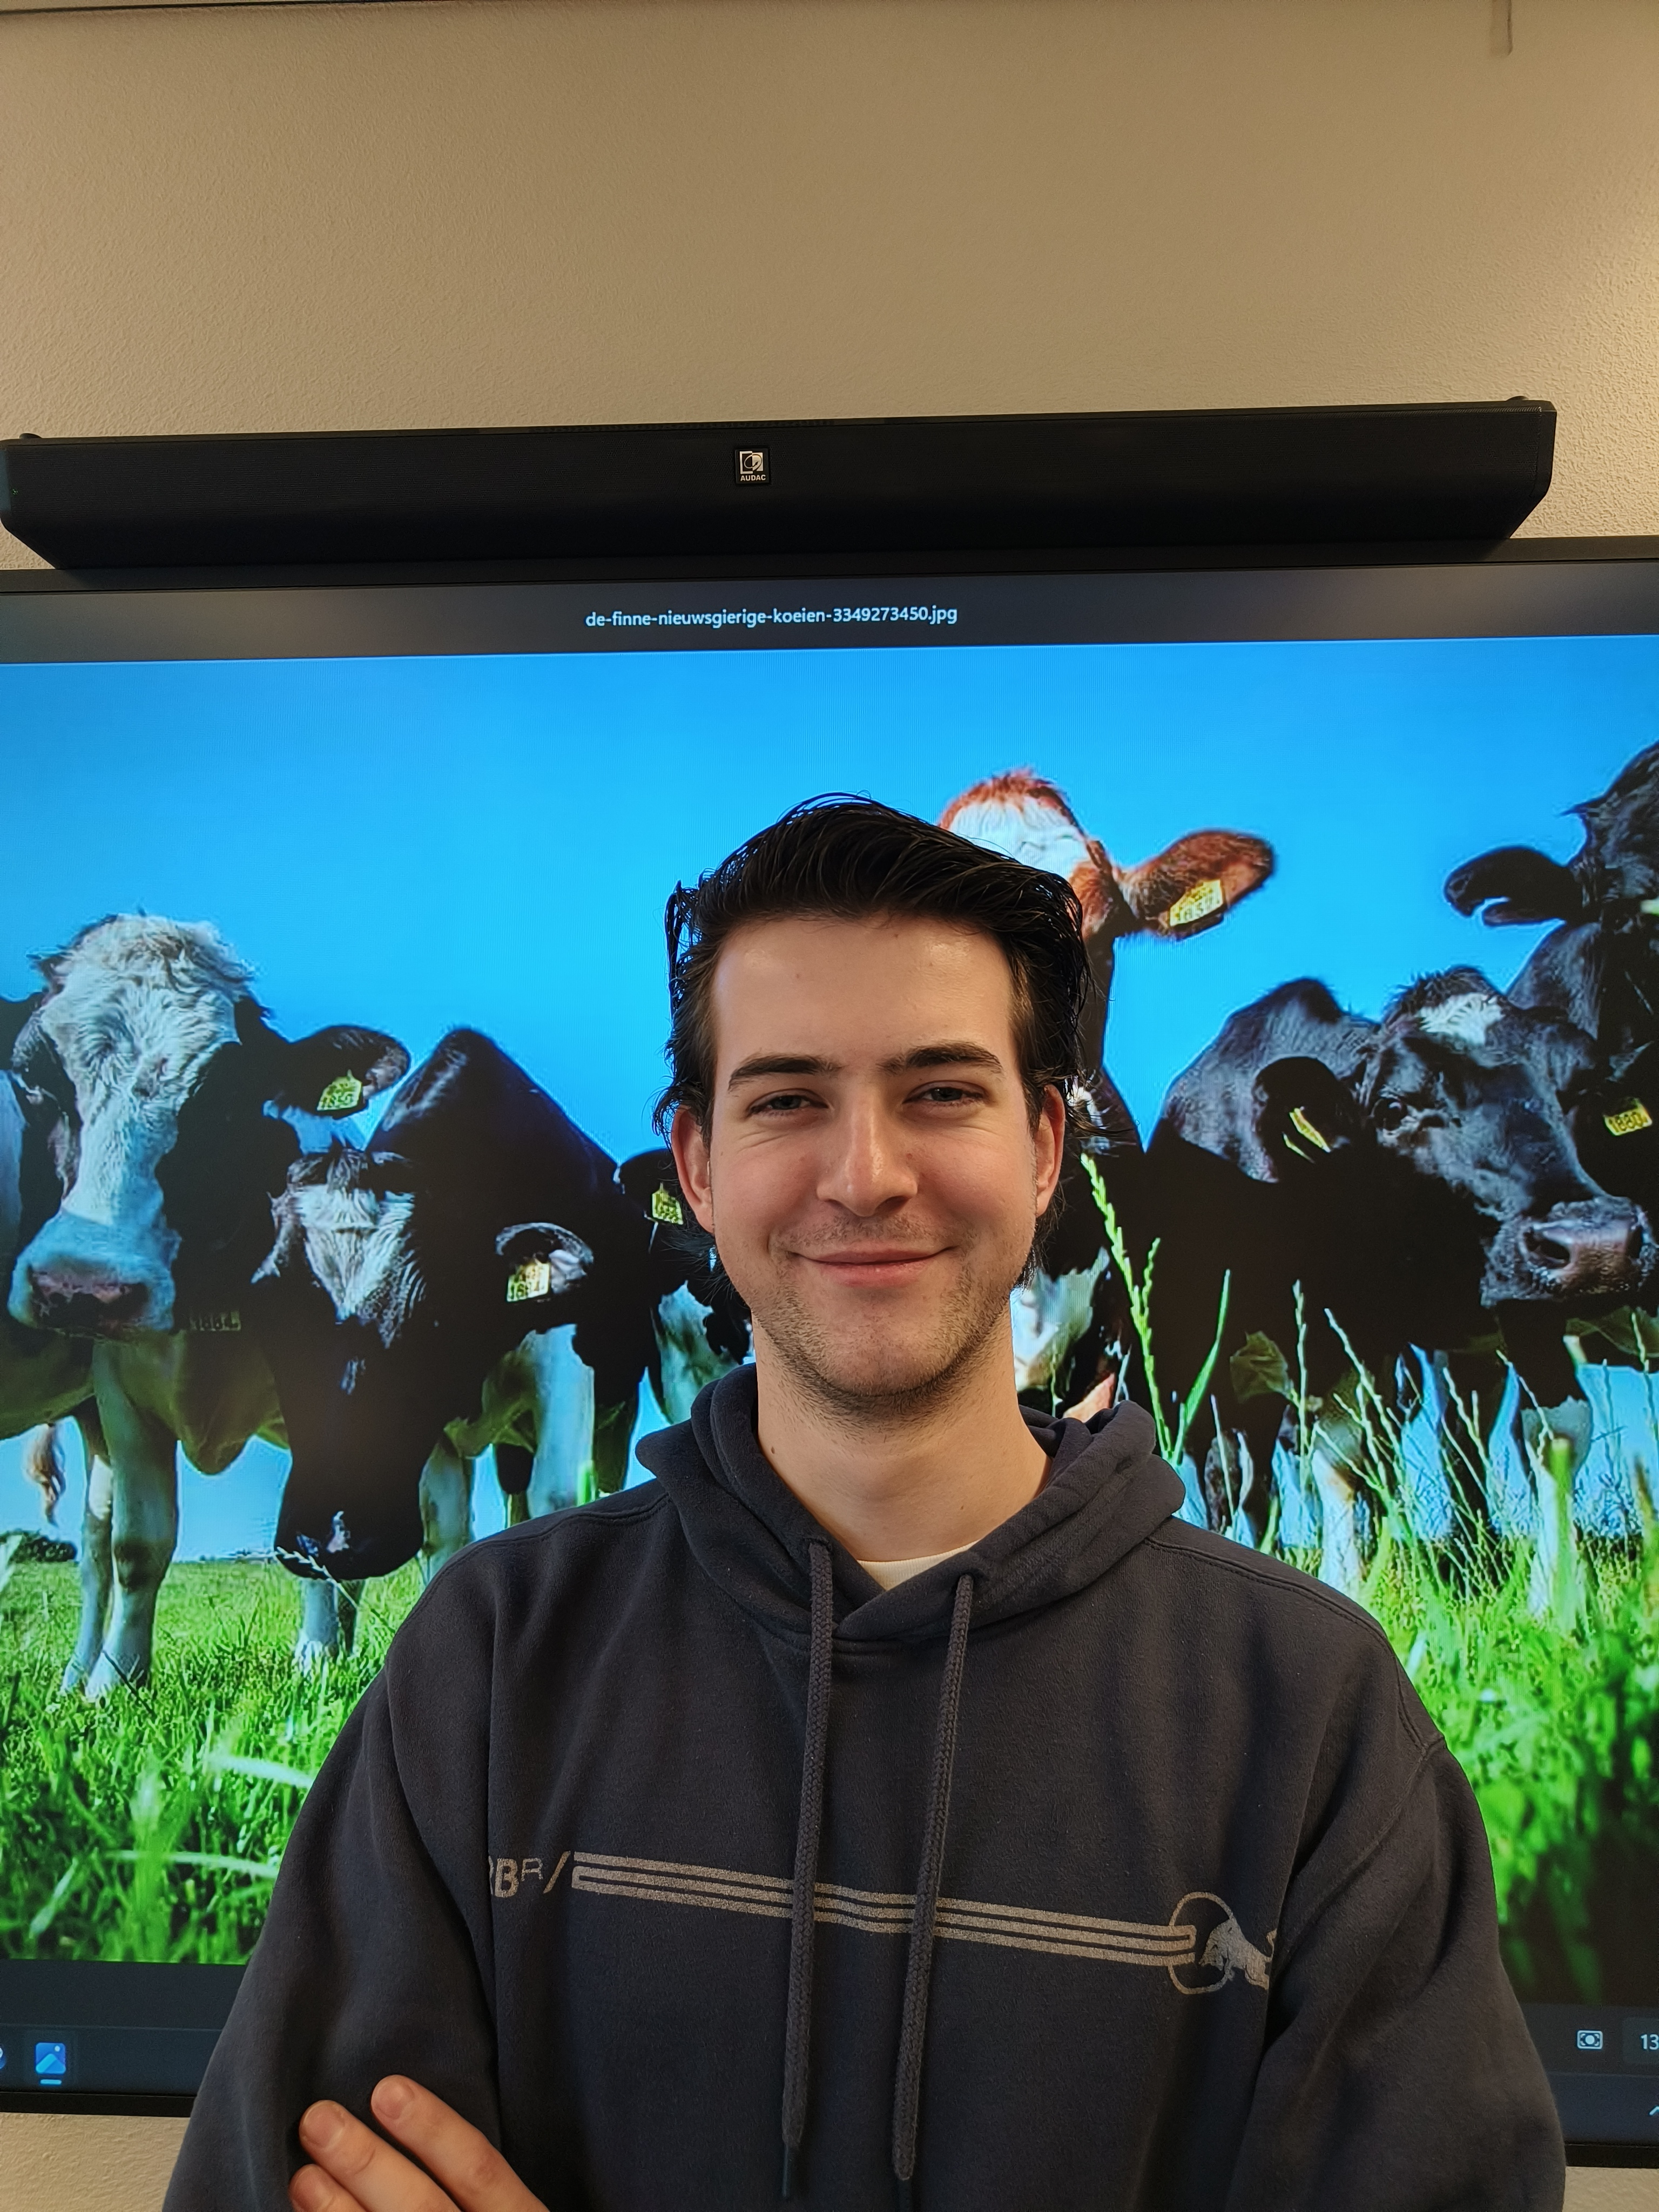face: (607, 846, 1181, 1395)
